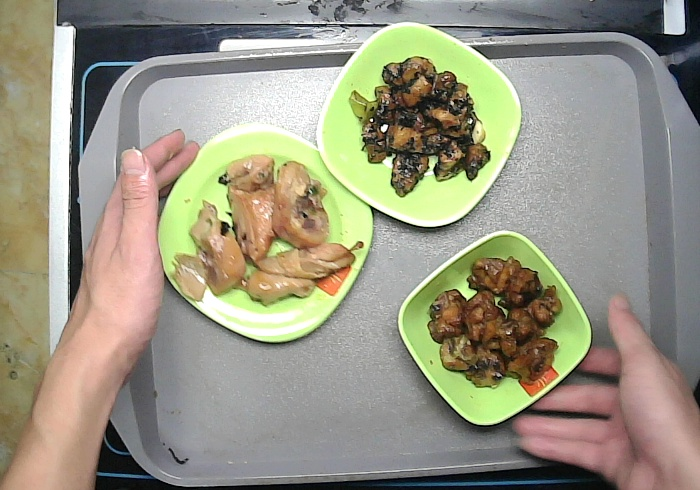SHKJ-Lv_Se_Cai_Die: (315, 20, 523, 228)
SHKJ-Lv_Se_Si_Fang_Cai_Die: (155, 122, 375, 343)
SHKJ-Lv_Se_Xiao_Fang_Die: (396, 229, 595, 427)
